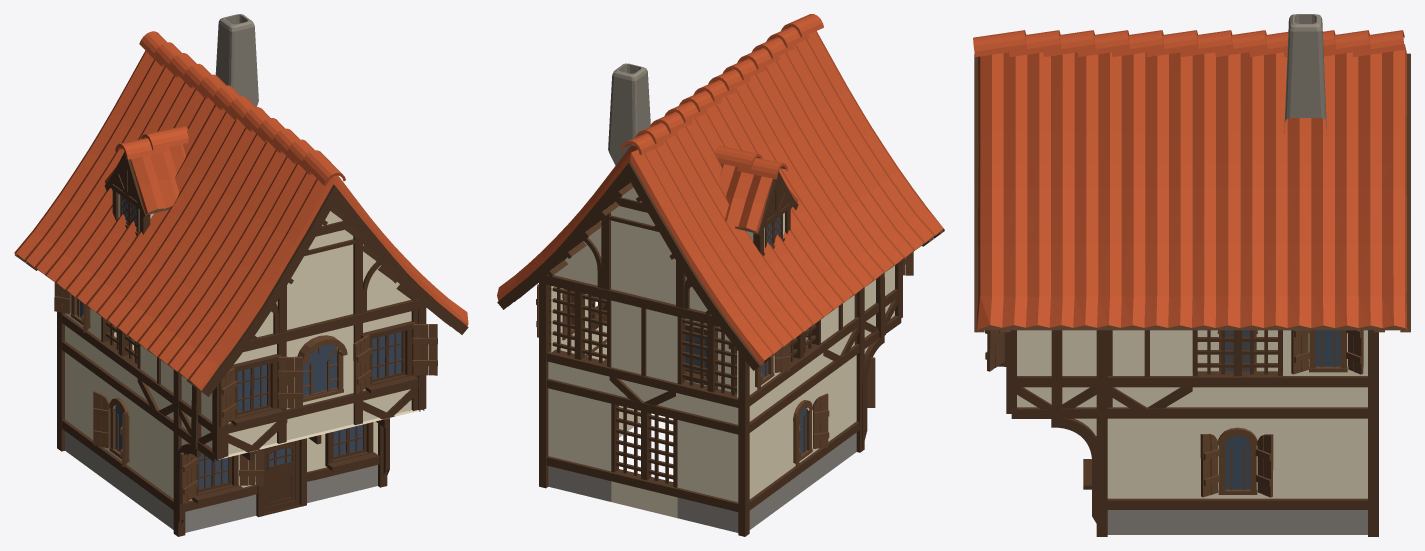
Rendered from house_wide.obj.
3 views of the same model, side by side, from view 1: azimuth 30°, elevation 25°; view 2: azimuth 150°, elevation 25°; view 3: azimuth 270°, elevation 25° (orthographic). The views are drawn at different scales.
Size of the model in its own units: 8.25 by 11.8 by 9.68.
